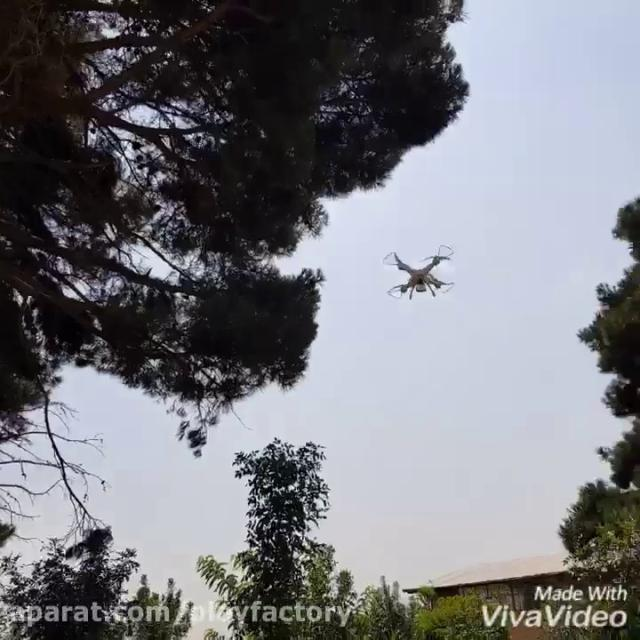drone: (381, 241, 457, 303)
